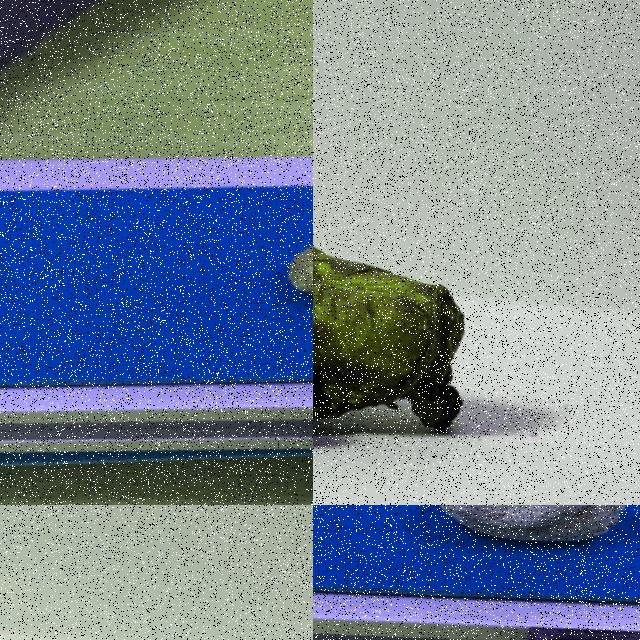Agglomerated_cocoabeans: (313, 203, 573, 482), (377, 505, 639, 578)
Fine_cocoabeans: (190, 200, 312, 337)
